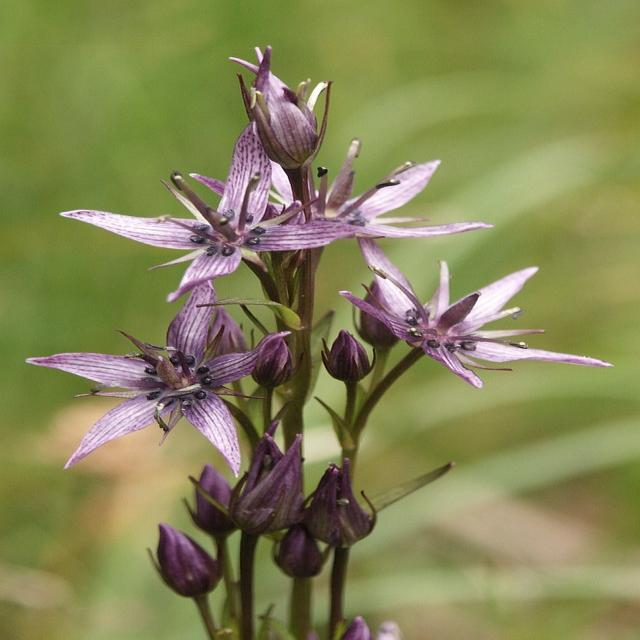Chirata: (36, 0, 640, 640), (0, 278, 446, 500), (254, 192, 614, 418), (44, 144, 513, 294), (125, 42, 392, 200)
